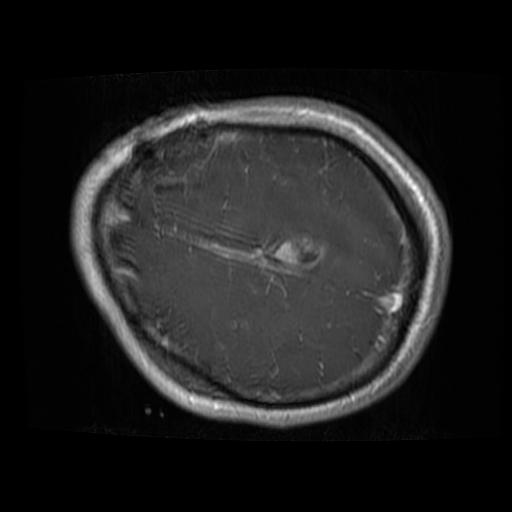glioma: (270, 231, 325, 274)
